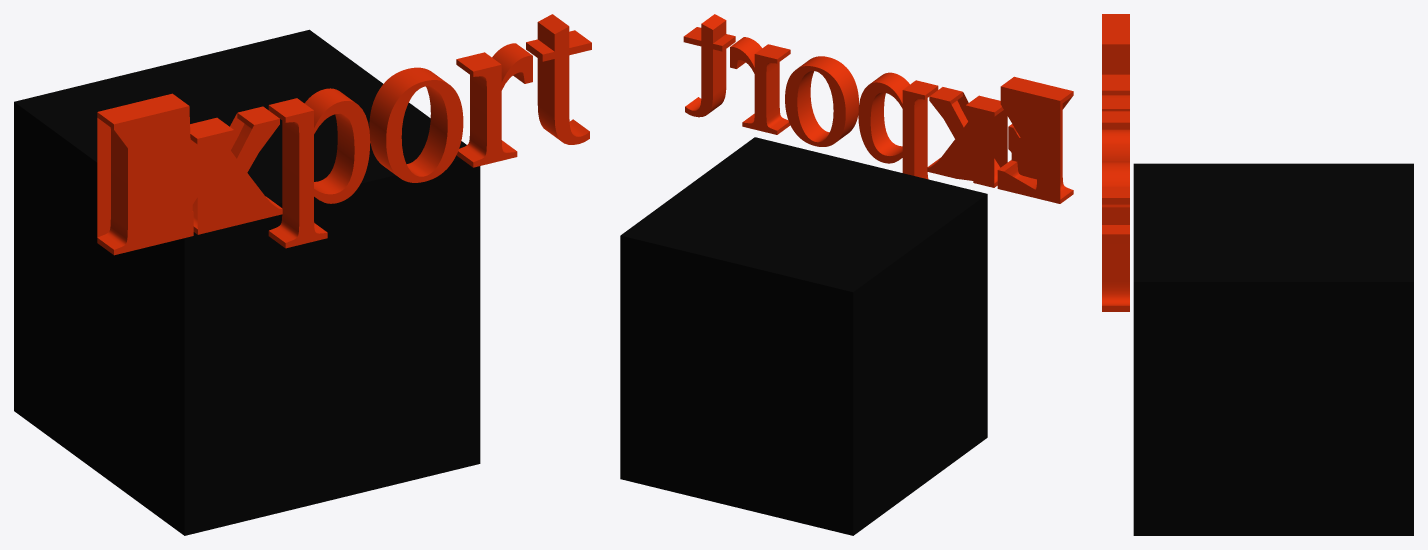
Rendered from exportbox.fbx.
3 views of the same model, side by side, from view 1: azimuth 30°, elevation 25°; view 2: azimuth 150°, elevation 25°; view 3: azimuth 270°, elevation 25° (orthographic). The views are drawn at different scales.
Parts seen in each view (by area): view 1: typeMesh3; view 2: typeMesh3; view 3: typeMesh3.
Part boxes in pixels (x1,y1,x2,y2): typeMesh3: (14,14,591,535); typeMesh3: (620,14,1073,535); typeMesh3: (1102,14,1413,535).
Bounding box in the file's own units: 1.62 × 1.45 × 1.11.
